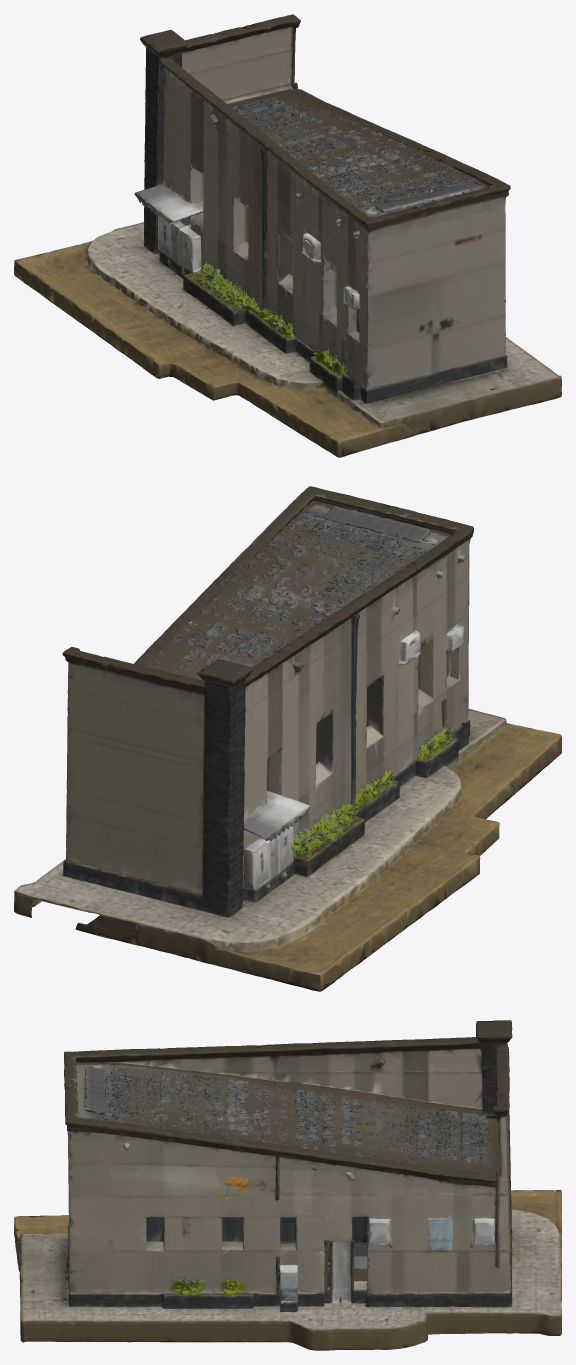
File: abbassia-mental-health-hospital-1.glb
3 renders of one model, top to bottom at view 1: azimuth 30°, elevation 25°; view 2: azimuth 150°, elevation 25°; view 3: azimuth 270°, elevation 25°, orthographic. The views are drawn at different scales.
Size of the model in its own units: 0.6449 by 0.4768 by 1.
1 material, 1 textured.
